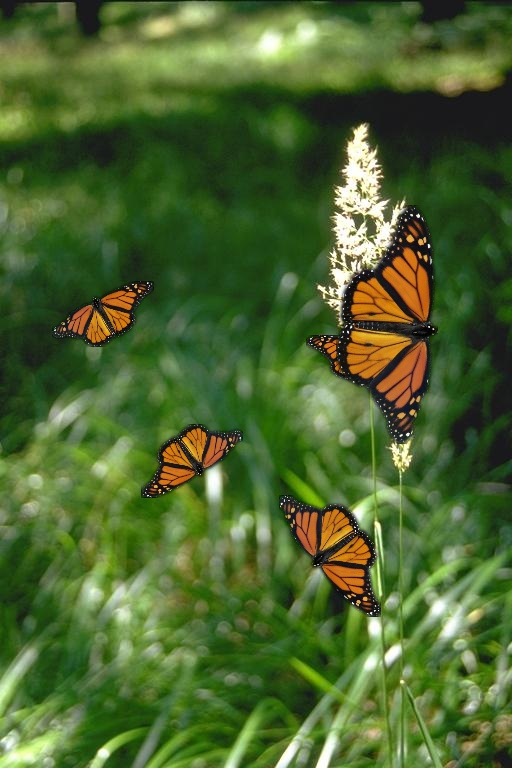danaus_plexippus: (336, 205, 438, 444), (279, 495, 381, 617), (141, 424, 243, 498), (52, 281, 154, 347), (306, 335, 408, 385)
